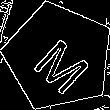M_NE: (24, 23, 93, 91)
